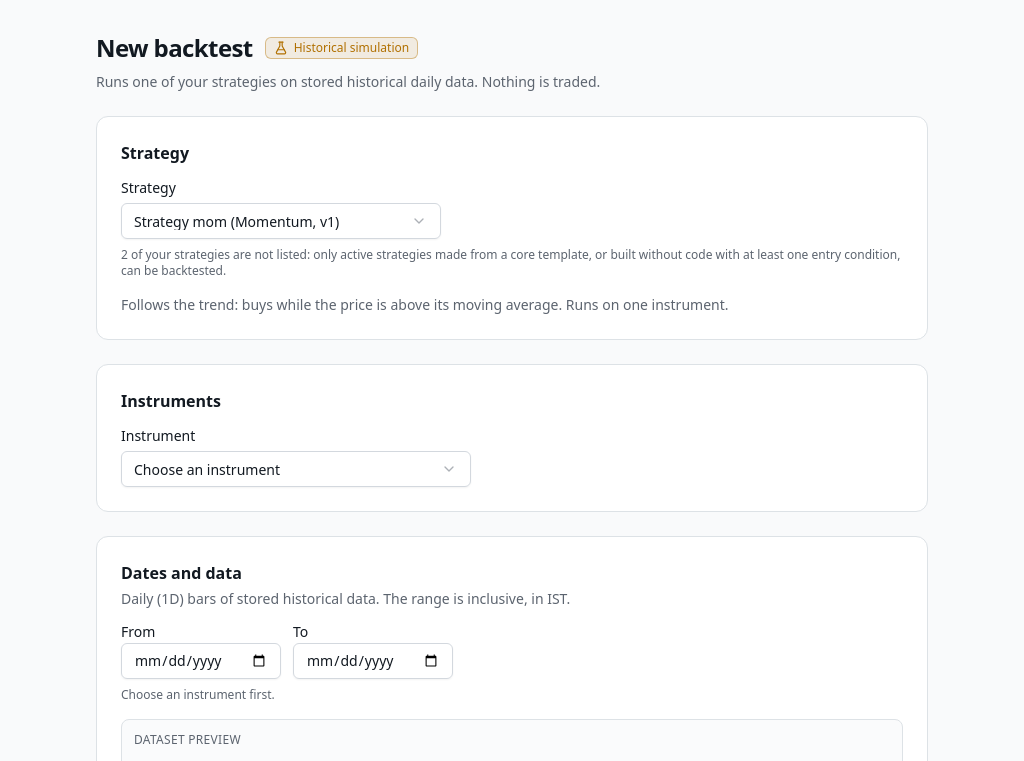
Test: NewBacktestPage › shows the backend's parameter check under the parameter
This screenshot has width=1024, height=761.
Select "RELIANCE - Reliance Industries" in the dropdown labelled "Instrument" at (296, 469), box [121,451,471,487]
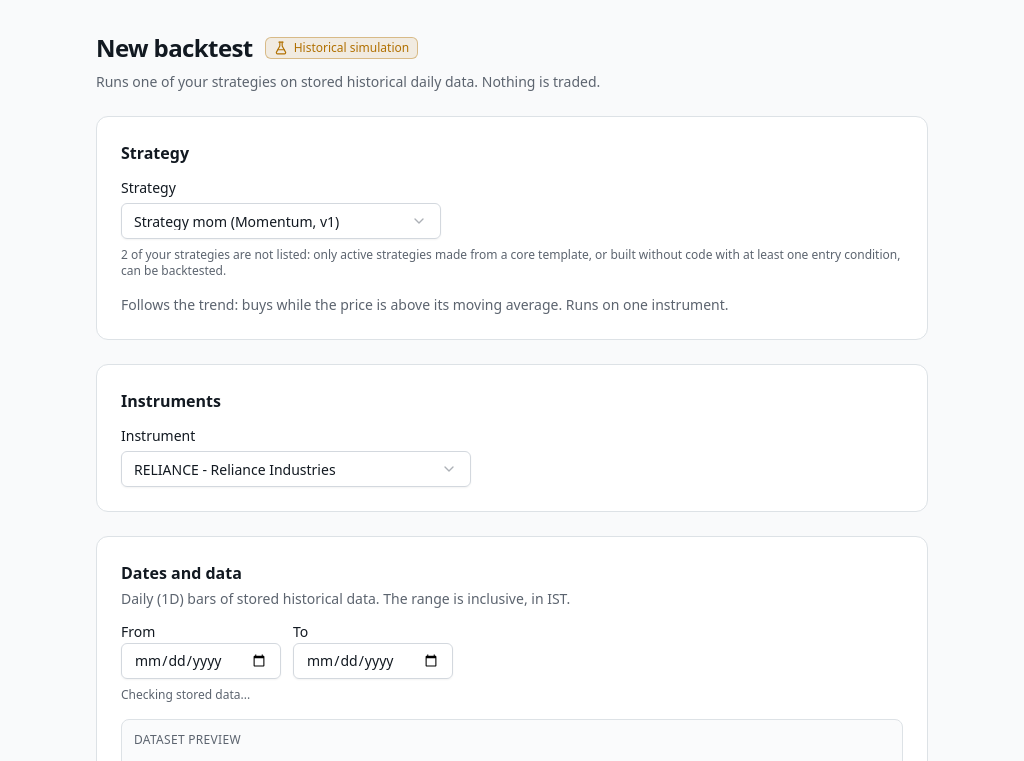
Type "2025-01-01" into the date field labelled "From" at (201, 661), box [121,643,281,679]
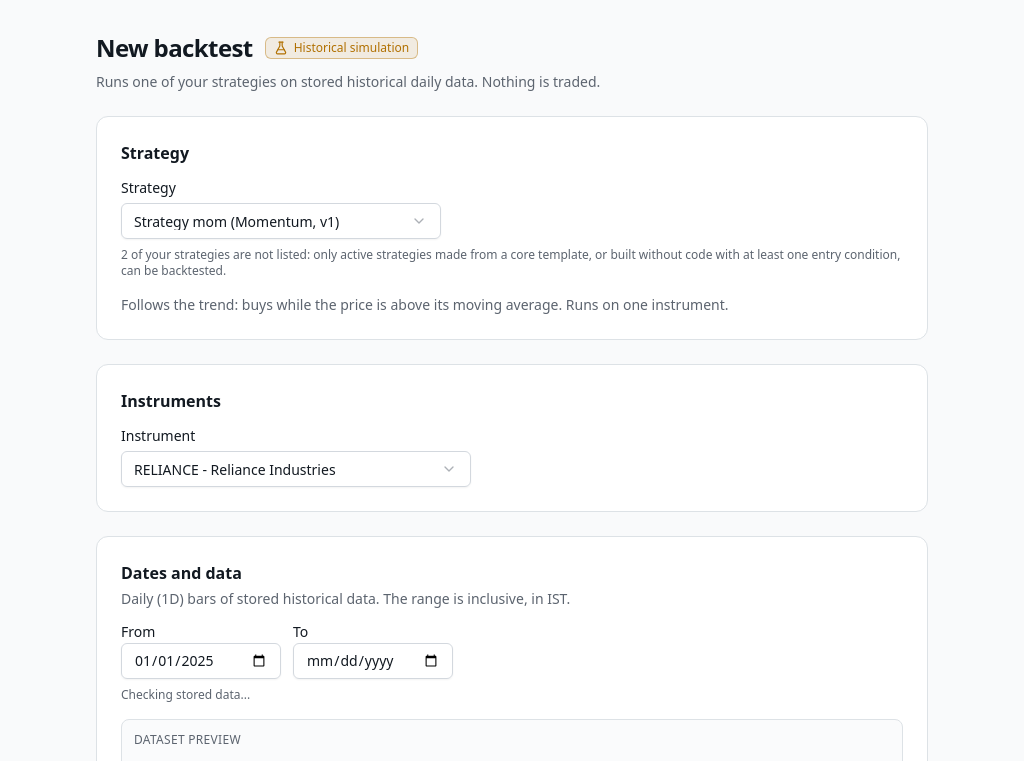
Type "2025-06-30" into the date field labelled "To" at (373, 661), box [293,643,453,679]
(page scrolled)
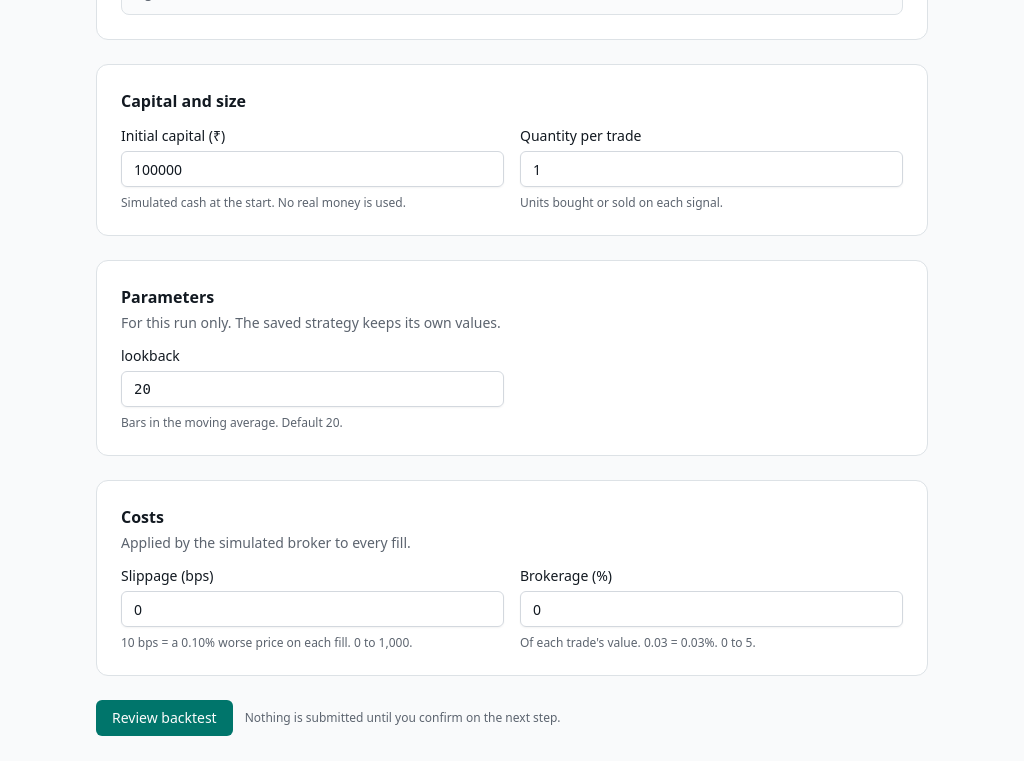
Replace the text in the field labelled "lookback" with "0" at (312, 389), box [121,371,504,407]
(page scrolled)
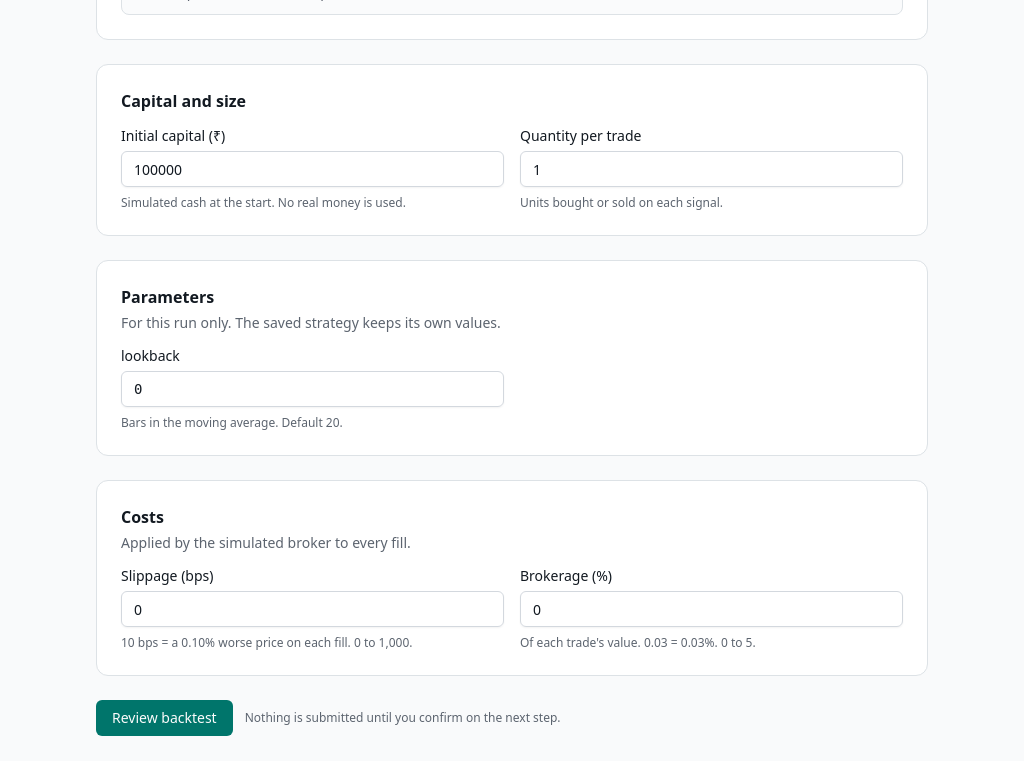
Click the button "Review backtest" at (164, 718), box [96,700,233,736]
(page scrolled)
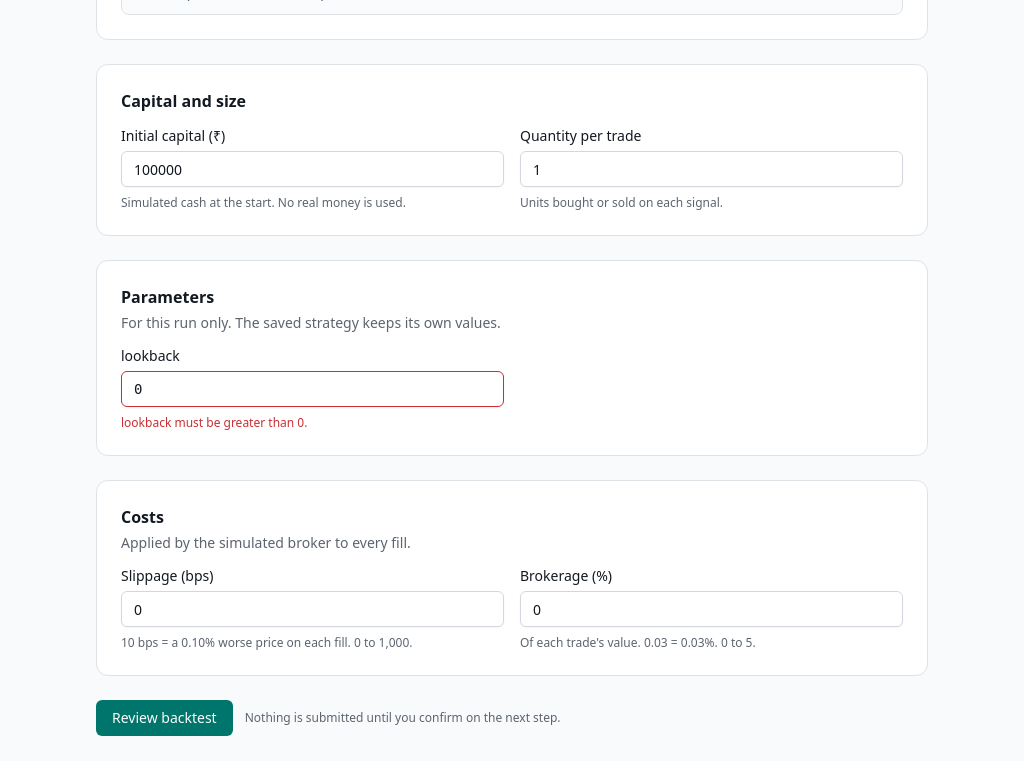
Expected: the text "lookback must be greater than 0." is shown, [121,414,307,431]
